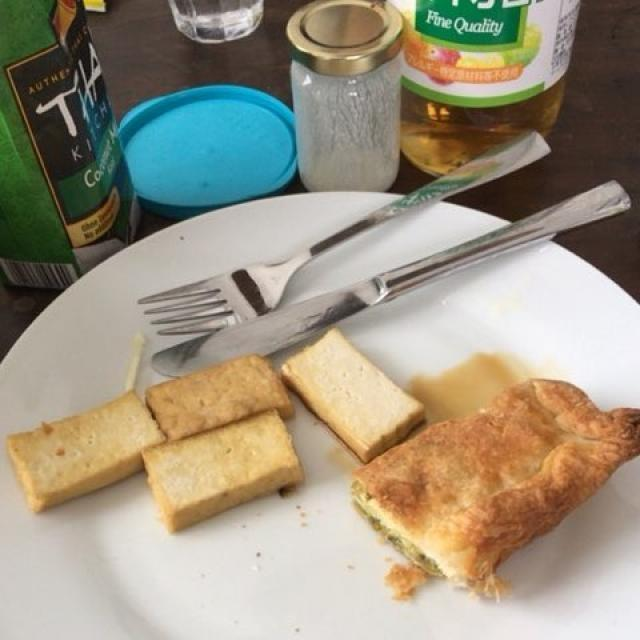quiche: (354, 377, 628, 580)
sauce: (412, 350, 522, 417)
tofu: (4, 329, 428, 539)
